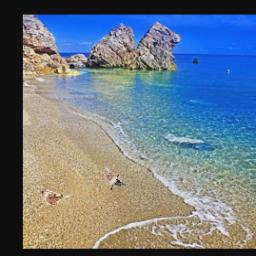Sparrow: (105, 166, 129, 190), (42, 188, 70, 205)
